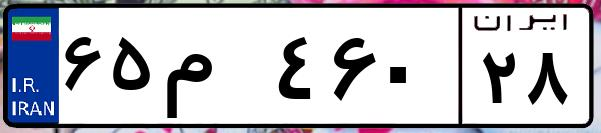0: (385, 28, 445, 110)
2: (475, 38, 525, 113)
4: (270, 28, 330, 110)
5: (110, 28, 158, 98)
6: (330, 28, 385, 110), (57, 26, 110, 100)
8: (525, 38, 570, 115)
م: (158, 20, 270, 120)
